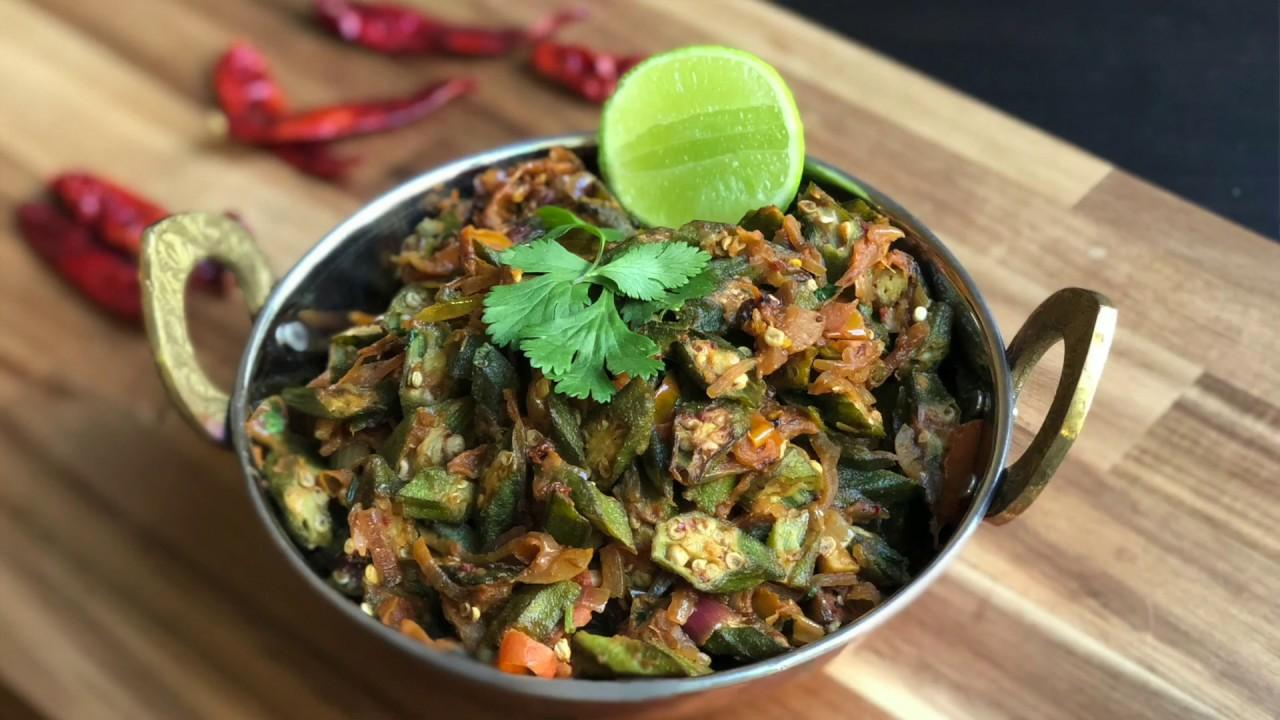BhindiMasala: (244, 147, 961, 681)
